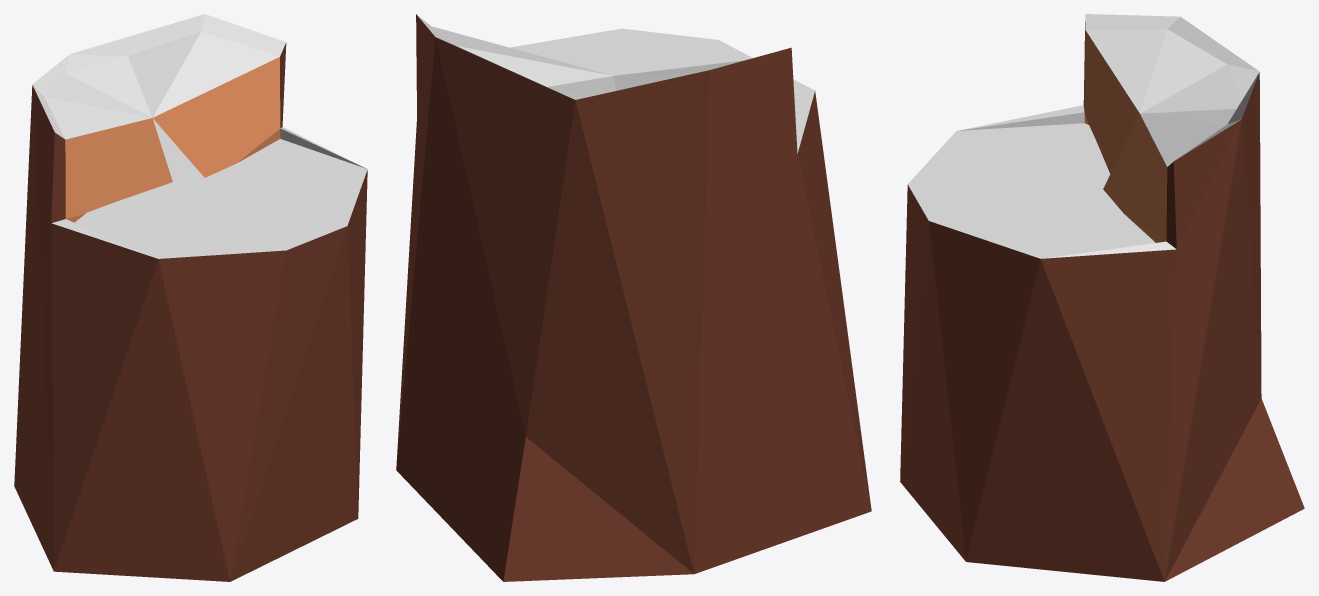
The model's file is pine_trunk_type_5_extra_LOD2.fbx.
3 renders of one model, left to right at view 1: azimuth 30°, elevation 25°; view 2: azimuth 150°, elevation 25°; view 3: azimuth 270°, elevation 25°, orthographic. The views are drawn at different scales.
Visible parts, largest first — view 1: Cylinder.002; view 2: Cylinder.002; view 3: Cylinder.002.
Part boxes in pixels (box(x1,y1,x2,y2)): Cylinder.002: box(14, 14, 367, 581); Cylinder.002: box(396, 14, 871, 581); Cylinder.002: box(900, 14, 1304, 581).
Bounding box in the file's own units: 218 × 263 × 222.
